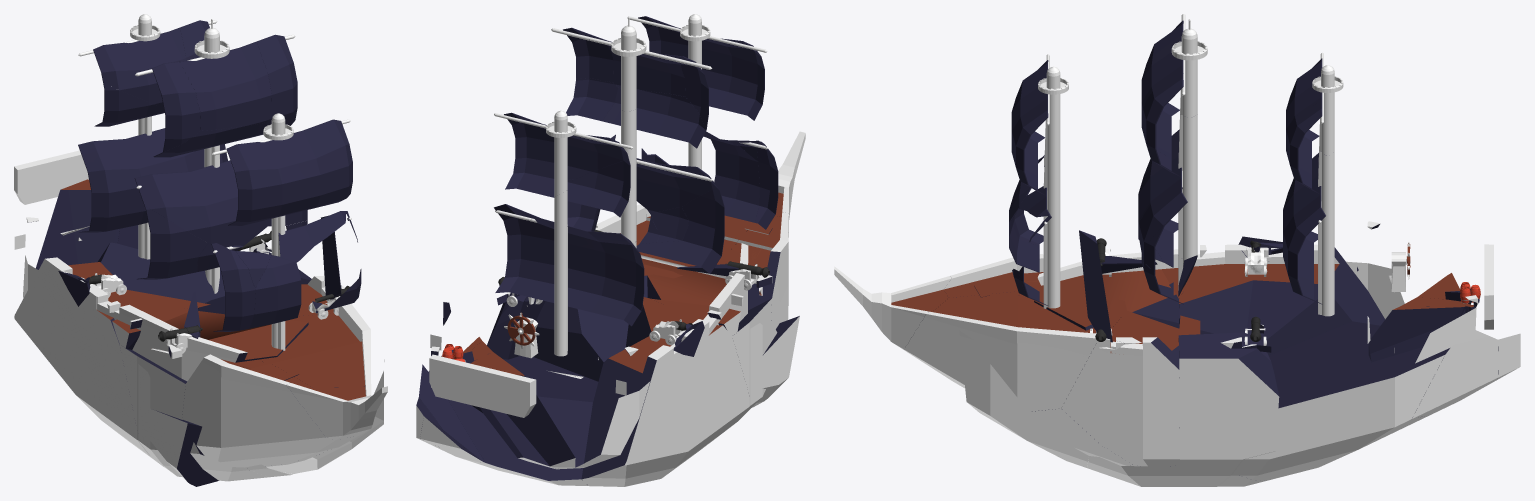
File: Barco3Roto.fbx
The picture shows the model from 3 angles, left to right: view 1: azimuth 30°, elevation 25°; view 2: azimuth 150°, elevation 25°; view 3: azimuth 270°, elevation 25°; orthographic projection. The views are drawn at different scales.
Parts seen in each view (by area): view 1: Velas.001_cell_cell.013, Velas.001_cell_cell.017, Velas.001_cell.007, Velas.001_cell.113, Velas.001_cell_cell.011, Velas.001_cell_cell.008, Velas.001_cell.302, Velas.001_cell.037, Velas.001_cell.172, Velas.001_cell.049, Velas.001_cell.036, Velas.001_cell_cell.014 (+29 smaller); view 2: Velas.001_cell_cell.017, Velas.001_cell.037, Velas.001_cell_cell.015, Velas.001_cell.007, Velas.001_cell_cell, Velas.001_cell.315, Velas.001_cell_cell.011, Velas.001_cell.243, Velas.001_cell_cell.013, Velas.001_cell.112, Velas.001_cell.251, Velas.001_cell.091 (+35 smaller); view 3: Velas.001_cell_cell.015, Velas.001_cell_cell.008, Velas.001_cell_cell, Velas.001_cell.011, Velas.001_cell_cell.017, Velas.001_cell_cell.011, Velas.001_cell.227, Velas.001_cell_cell.004, Velas.001_cell_cell.014, Velas.001_cell.069, Velas.001_cell.010, Velas.001_cell.007 (+26 smaller).
Part boxes in pixels (bbox=[...]): Velas.001_cell_cell.013: bbox=[182, 354, 348, 467]; Velas.001_cell_cell.017: bbox=[14, 257, 161, 465]; Velas.001_cell.007: bbox=[226, 119, 352, 225]; Velas.001_cell.113: bbox=[134, 160, 268, 250]; Velas.001_cell_cell.011: bbox=[89, 287, 308, 381]; Velas.001_cell_cell.008: bbox=[259, 297, 370, 454]; Velas.001_cell.302: bbox=[179, 41, 271, 130]; Velas.001_cell.037: bbox=[78, 128, 227, 232]; Velas.001_cell.172: bbox=[79, 128, 227, 232]; Velas.001_cell.049: bbox=[93, 27, 186, 107]; Velas.001_cell.036: bbox=[35, 179, 119, 269]; Velas.001_cell_cell.014: bbox=[286, 376, 387, 439]; Velas.001_cell_cell.017: bbox=[581, 319, 750, 486]; Velas.001_cell.037: bbox=[494, 204, 644, 326]; Velas.001_cell_cell.015: bbox=[428, 356, 598, 485]; Velas.001_cell.007: bbox=[638, 16, 764, 120]; Velas.001_cell_cell: bbox=[533, 270, 652, 381]; Velas.001_cell.315: bbox=[429, 354, 536, 417]; Velas.001_cell_cell.011: bbox=[639, 243, 748, 334]; Velas.001_cell.243: bbox=[636, 188, 724, 273]; Velas.001_cell_cell.013: bbox=[731, 212, 788, 328]; Velas.001_cell.112: bbox=[602, 88, 706, 148]; Velas.001_cell.251: bbox=[711, 139, 759, 222]; Velas.001_cell.091: bbox=[504, 112, 554, 197]; Velas.001_cell_cell.015: bbox=[1214, 321, 1449, 480]; Velas.001_cell_cell.008: bbox=[904, 291, 1126, 411]; Velas.001_cell_cell: bbox=[1061, 310, 1213, 466]; Velas.001_cell.011: bbox=[1178, 332, 1279, 462]; Velas.001_cell_cell.017: bbox=[1207, 244, 1384, 355]; Velas.001_cell_cell.011: bbox=[1034, 245, 1247, 330]; Velas.001_cell.227: bbox=[959, 330, 1088, 467]; Velas.001_cell_cell.004: bbox=[1412, 326, 1498, 418]; Velas.001_cell_cell.014: bbox=[834, 266, 951, 350]; Velas.001_cell.069: bbox=[1043, 66, 1060, 308]; Velas.001_cell.010: bbox=[1179, 270, 1253, 333]; Velas.001_cell.007: bbox=[1011, 60, 1048, 195].
Size of the model in its own units: 5.33 by 11.29 by 15.66.
